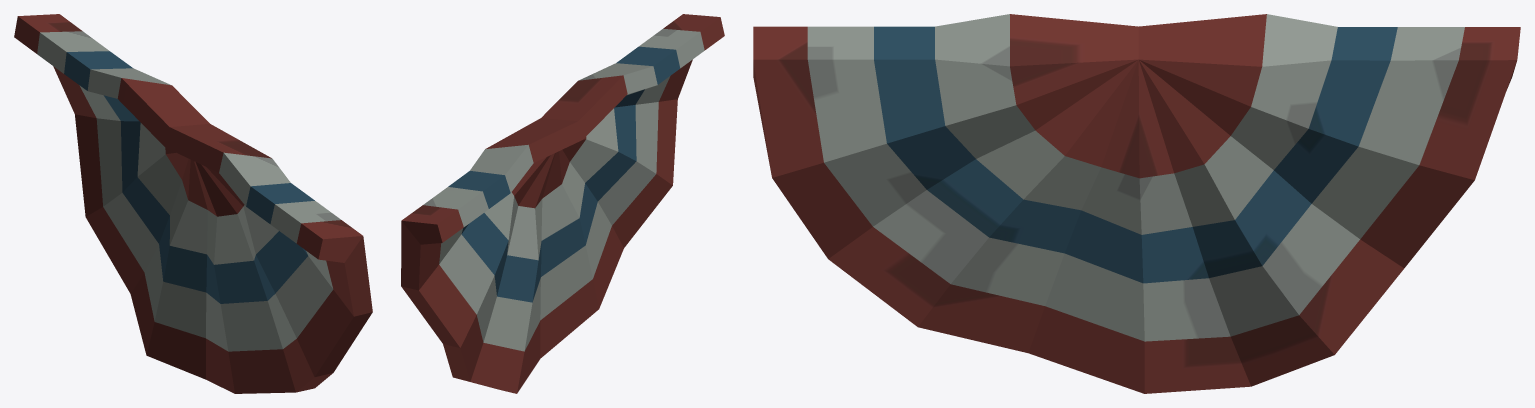
Rendered from apoc_SM_Bld_Decoration_01.gltf.
The picture shows the model from 3 angles, left to right: view 1: azimuth 30°, elevation 25°; view 2: azimuth 150°, elevation 25°; view 3: azimuth 270°, elevation 25°; orthographic projection. The views are drawn at different scales.
Visible parts, largest first — view 1: SM_Bld_Decoration_01; view 2: SM_Bld_Decoration_01; view 3: SM_Bld_Decoration_01.
Part boxes in pixels (x1,y1,x2,y2): SM_Bld_Decoration_01: (14, 14, 372, 393); SM_Bld_Decoration_01: (401, 14, 724, 393); SM_Bld_Decoration_01: (753, 14, 1520, 393).
Bounding box in the file's own units: 0.2711 × 1.16 × 2.31.
Materials: 1 (1 with a texture image).
